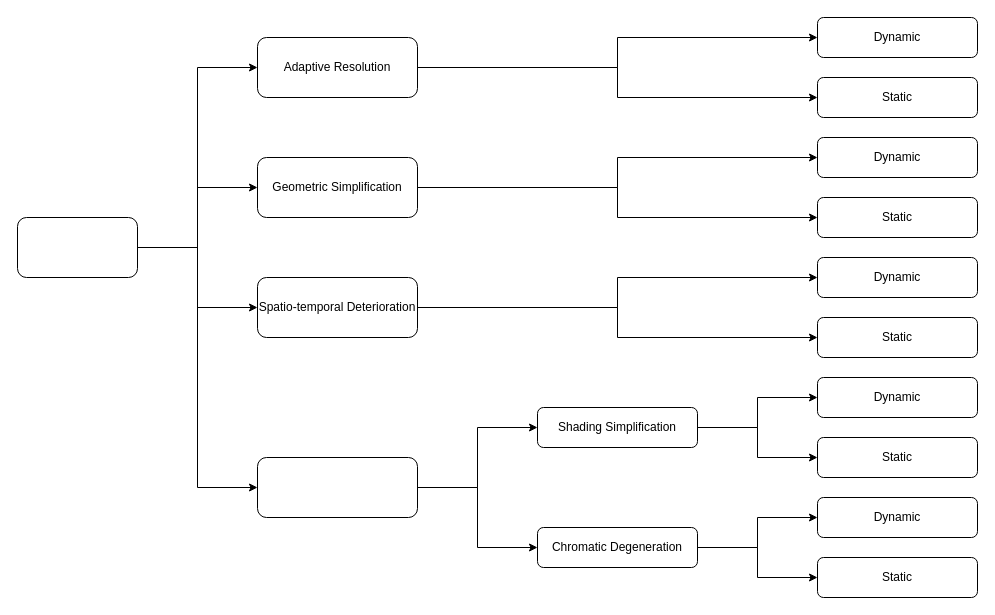
The diagram is 995 pixels wide and 615 high, and some of its shapes have lost their labels. The shapes that lost their labels are listed below. From the top down, each one's box as (x1, y1, x2, y2) in pixels, then its label:
(16, 216, 138, 278): Foveated Rendering
(256, 456, 418, 518): Shading Simplification and Chromatic Degeneration
